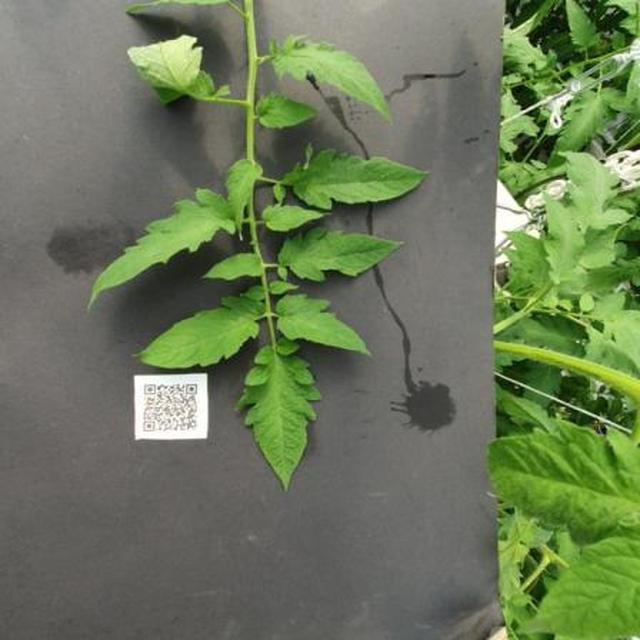Healthy Leaf: (87, 42, 503, 588)
